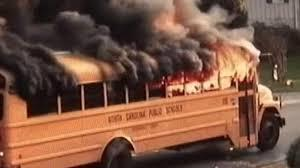fire: (208, 41, 261, 79)
